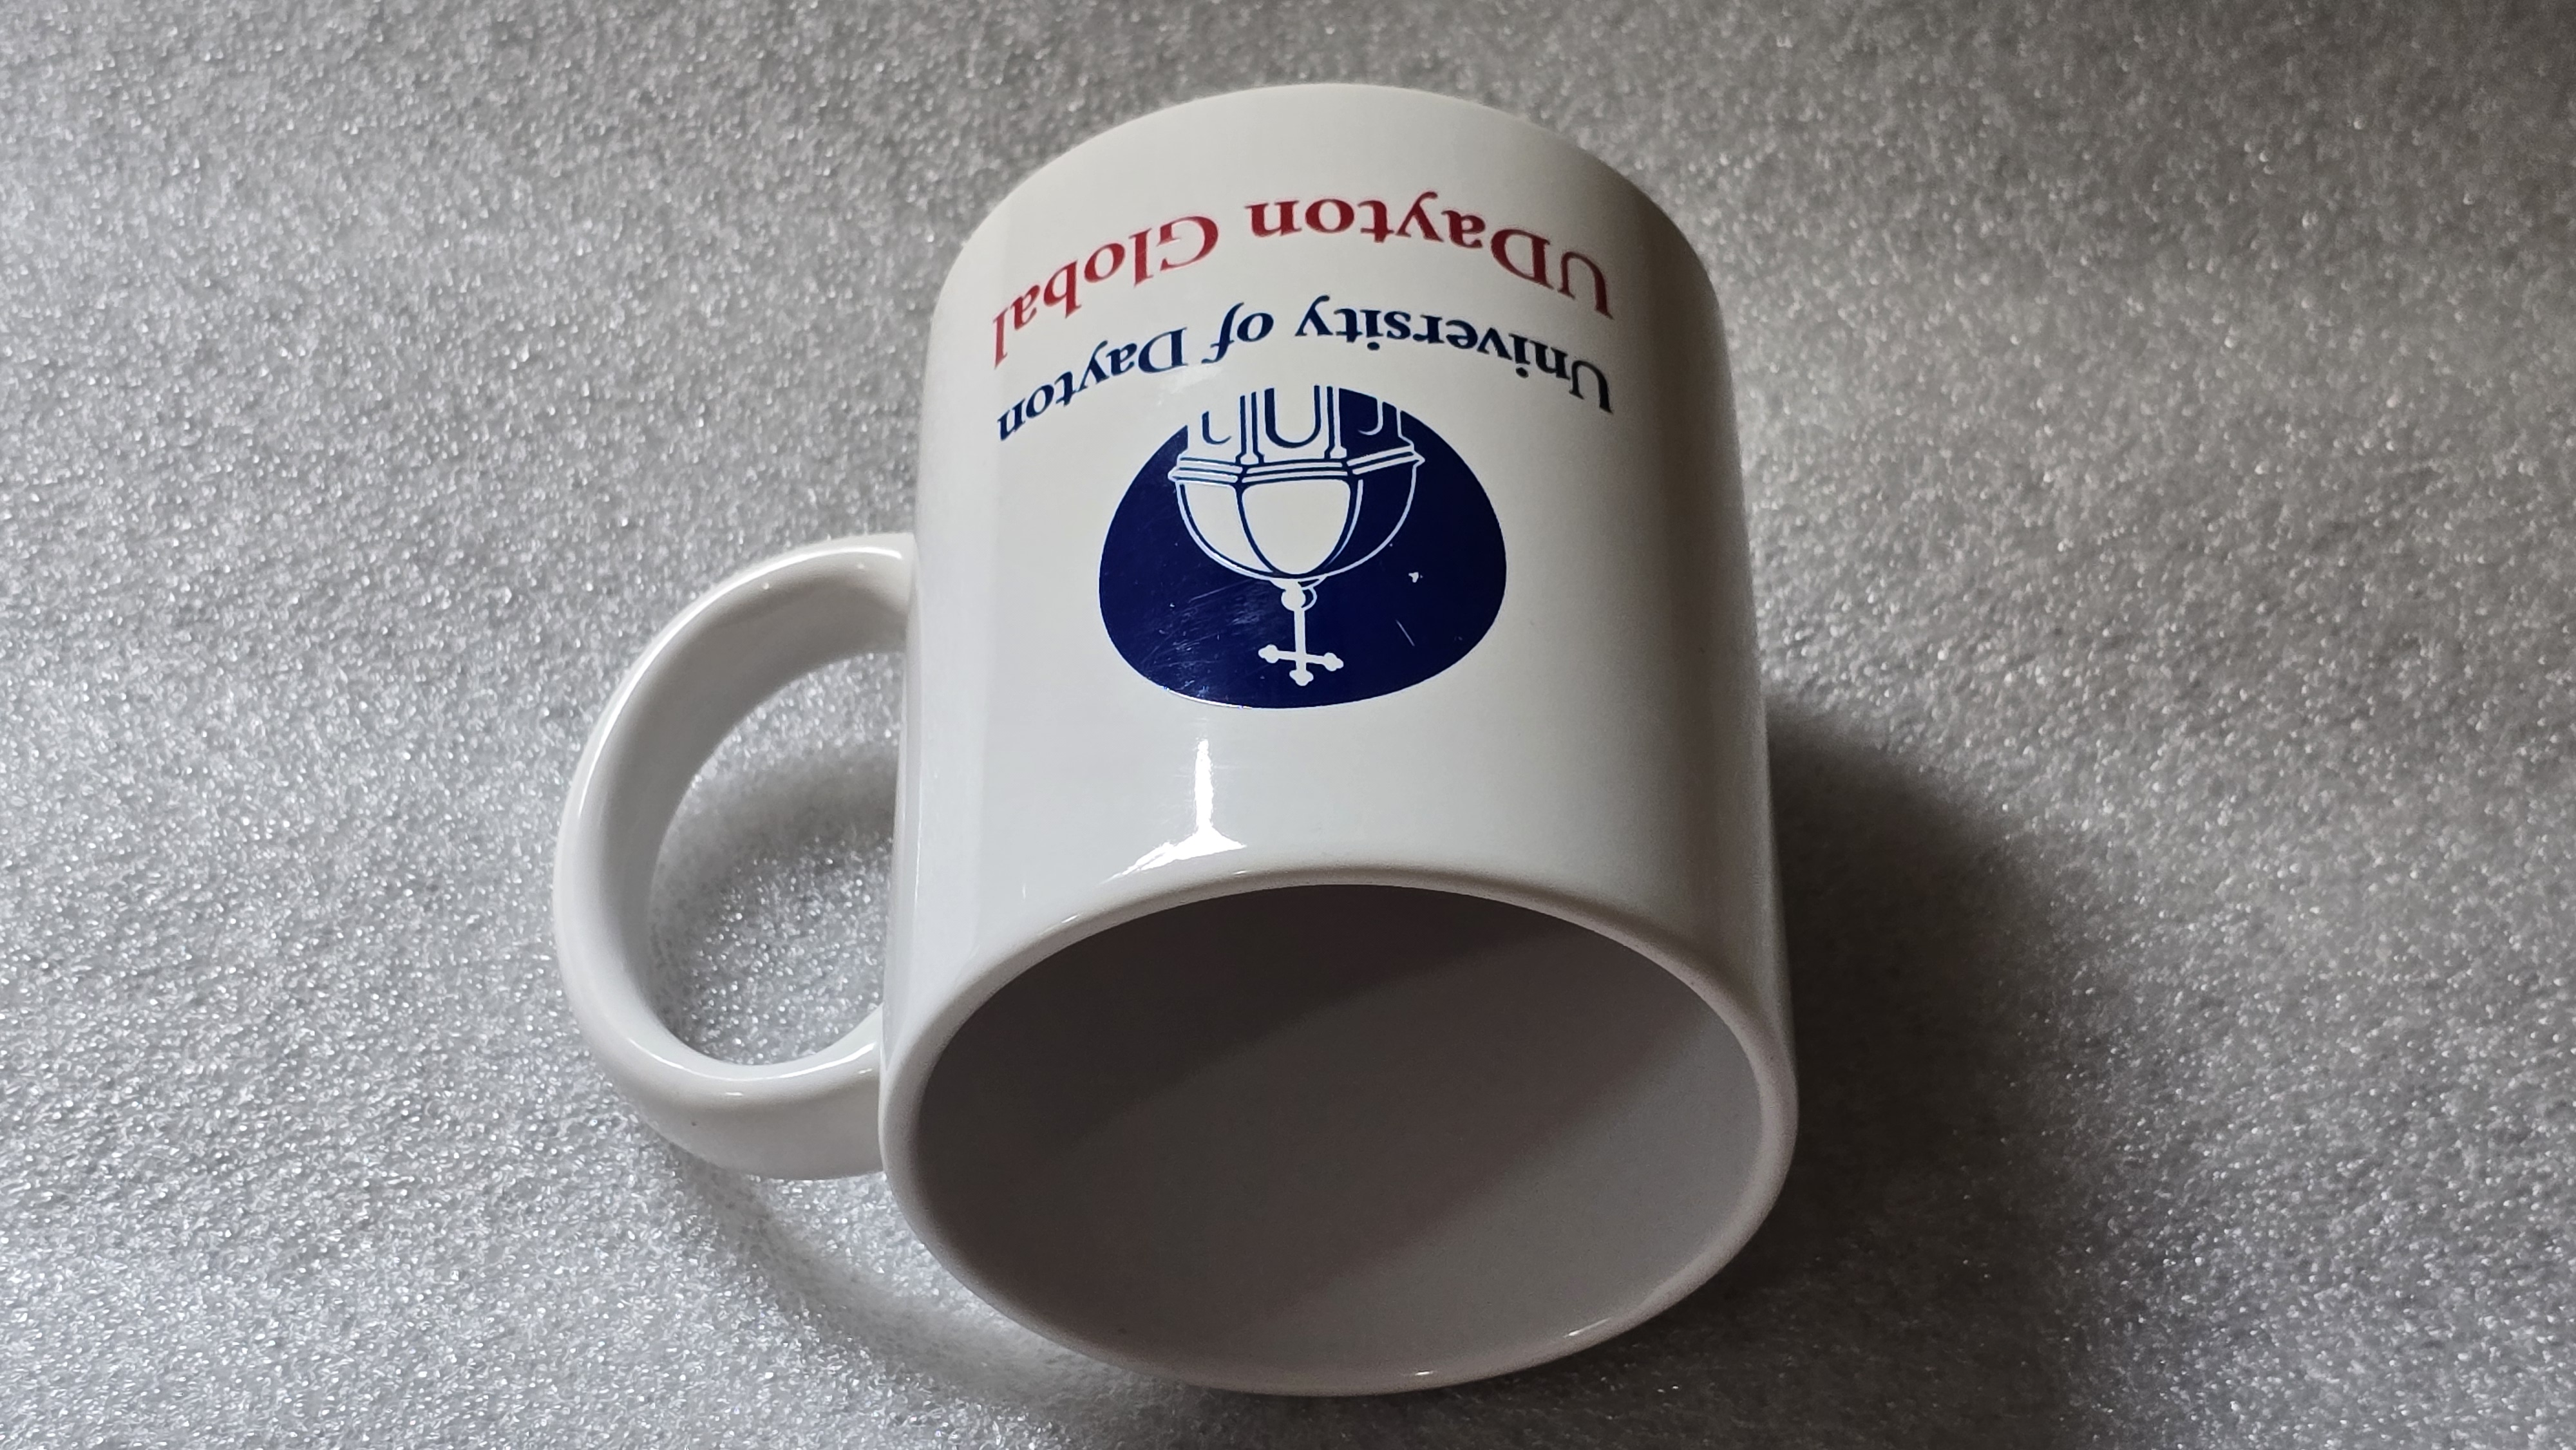mug: (554, 69, 1829, 1399)
